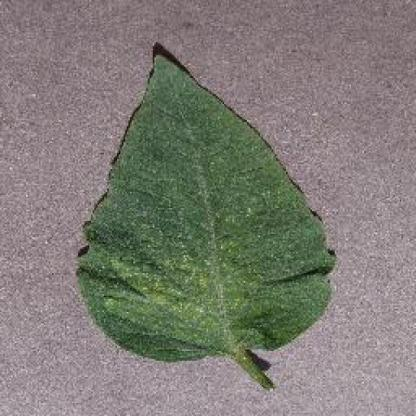Strawberry_Blossom_Blight: (111, 260, 165, 312), (183, 136, 221, 197), (223, 264, 274, 306), (140, 220, 191, 258)
